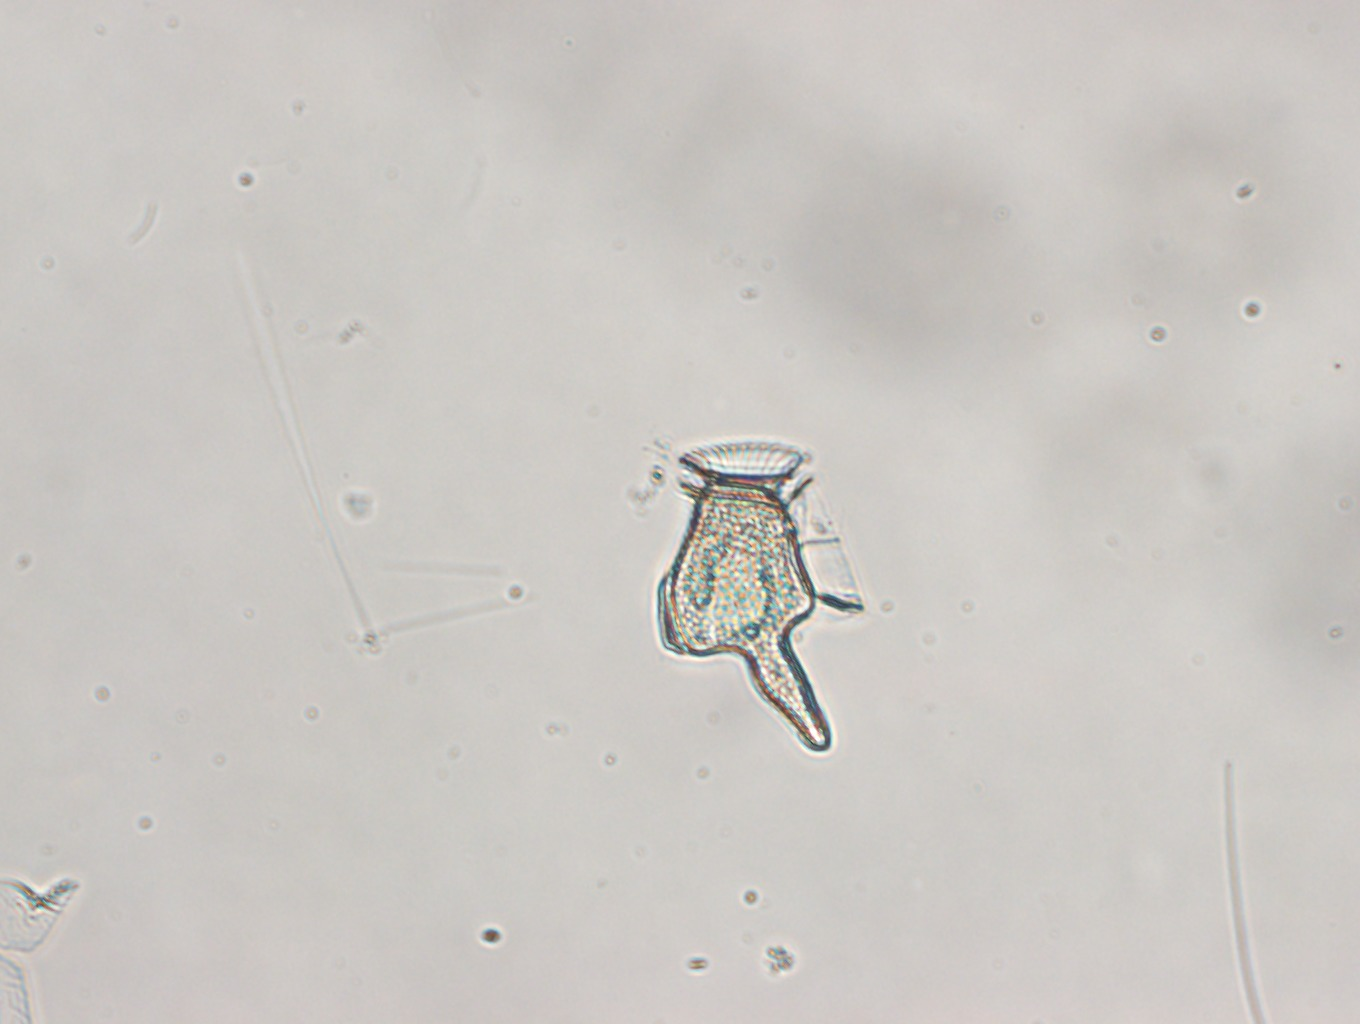dinophysis caudata: (655, 443, 864, 755)
